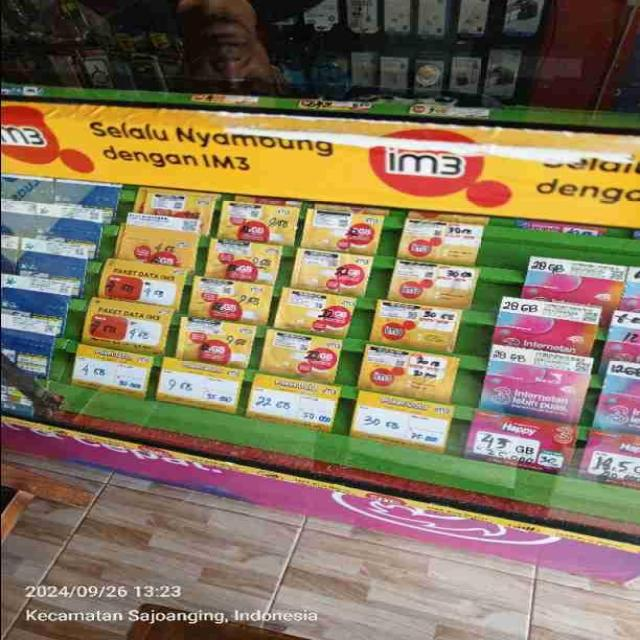Gratis Nelpon: (1, 172, 120, 234), (0, 236, 87, 306), (0, 310, 61, 394)
Indosat-3: (480, 350, 586, 416), (582, 364, 640, 482), (464, 414, 574, 472), (491, 301, 604, 354), (521, 257, 622, 310), (608, 315, 636, 360)
im3: (354, 396, 454, 452), (389, 213, 502, 261), (360, 349, 466, 398), (66, 342, 151, 402), (79, 296, 172, 350), (250, 376, 339, 429), (172, 311, 254, 368), (96, 258, 193, 304), (369, 303, 471, 346), (159, 357, 239, 411), (113, 224, 202, 272), (256, 332, 347, 378), (186, 274, 273, 322), (214, 194, 300, 242), (132, 185, 218, 232), (379, 262, 493, 294), (274, 287, 352, 332), (296, 251, 372, 296), (204, 240, 288, 280), (303, 211, 384, 250)
